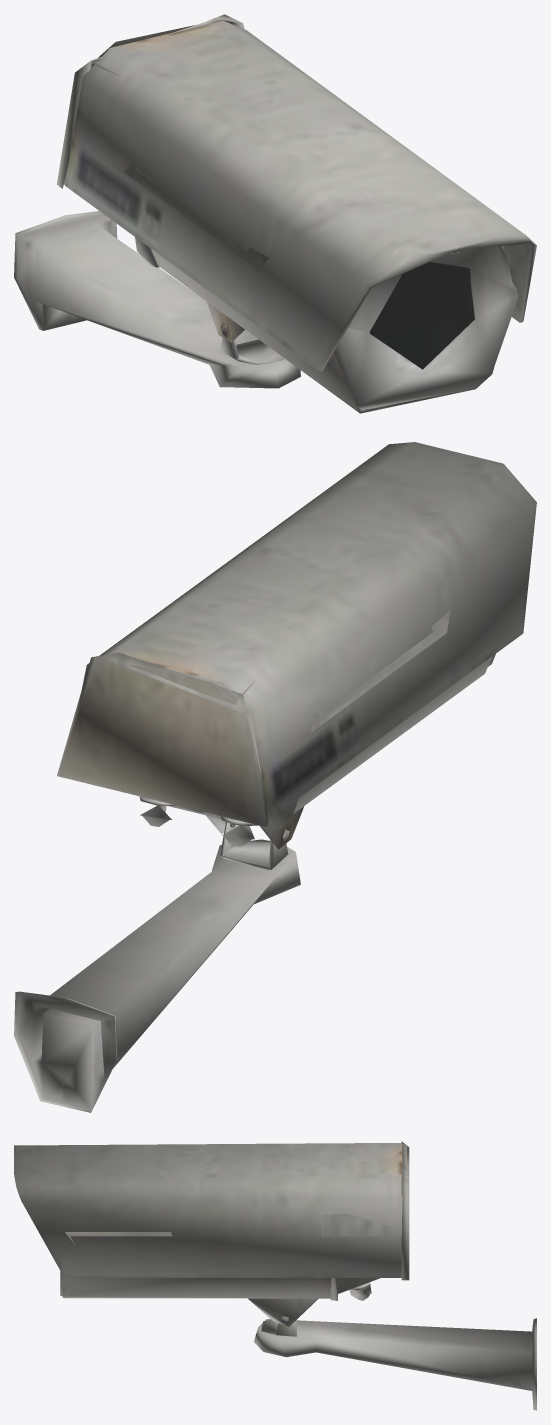
The model's file is security_camera_01.glb.
3 renders of one model, top to bottom at view 1: azimuth 30°, elevation 25°; view 2: azimuth 150°, elevation 25°; view 3: azimuth 270°, elevation 25°, orthographic. The views are drawn at different scales.
Parts seen in each view (by area): view 1: security_camera_01; view 2: security_camera_01; view 3: security_camera_01.
Boxes of the visible parts, x1=… form: security_camera_01: x1=14, y1=14, x2=536, y2=413; security_camera_01: x1=14, y1=442, x2=536, y2=1112; security_camera_01: x1=14, y1=1141, x2=536, y2=1410.
Size of the model in its own units: 0.1696 by 0.2854 by 0.5536.
Materials: 2 (2 with a texture image).
